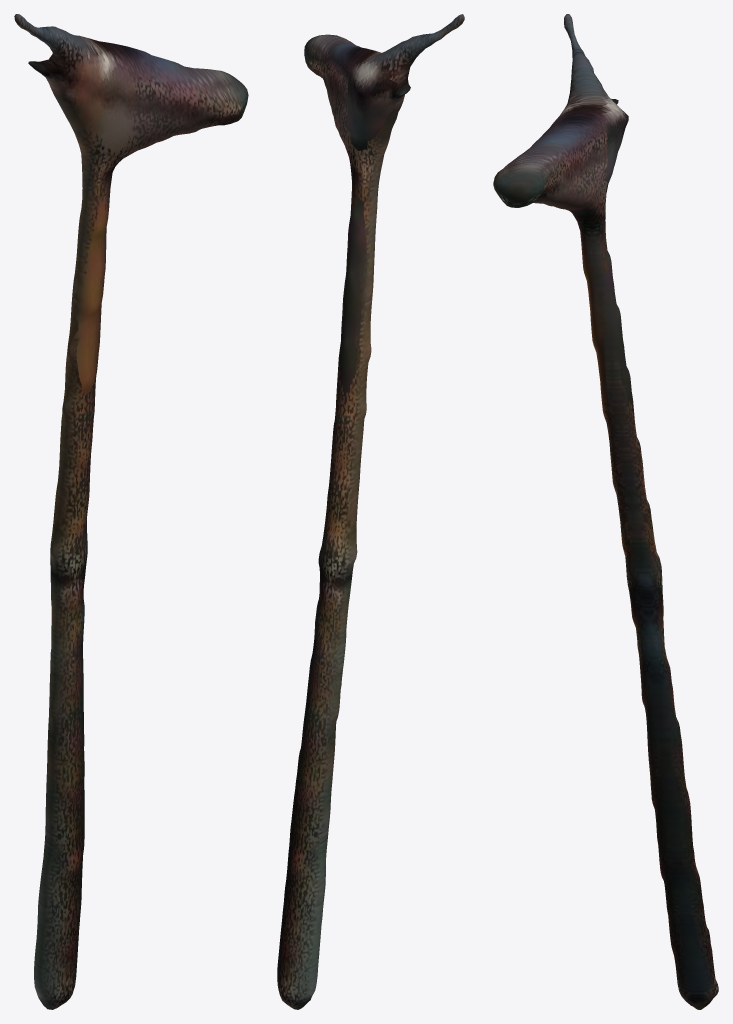
Rendered from kfl-2201.glb.
3 renders of one model, left to right at view 1: azimuth 30°, elevation 25°; view 2: azimuth 150°, elevation 25°; view 3: azimuth 270°, elevation 25°, orthographic. The views are drawn at different scales.
Parts seen in each view (by area): view 1: geometry_0; view 2: geometry_0; view 3: geometry_0.
Boxes of the visible parts, box(x1,y1,x2,y2) form: geometry_0: box(14, 14, 248, 1009); geometry_0: box(277, 14, 464, 1009); geometry_0: box(493, 14, 718, 1009).
Bounding box in the file's own units: 0.1939 × 0.9835 × 0.2119.
1 material, 1 textured.
